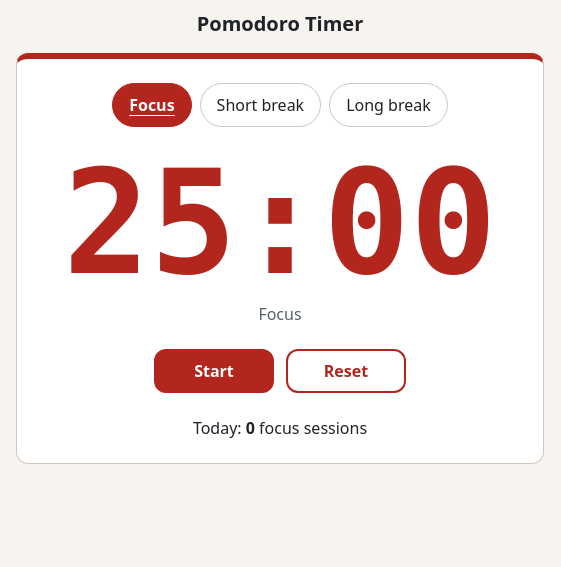
S4 Sound and in-page message when a session ends › when a break reaches 00:00, a sound plays and 'Break over. Ready to focus?' appears
Click the button "Short break". click: click(260, 105)
box: [200,83,321,127]
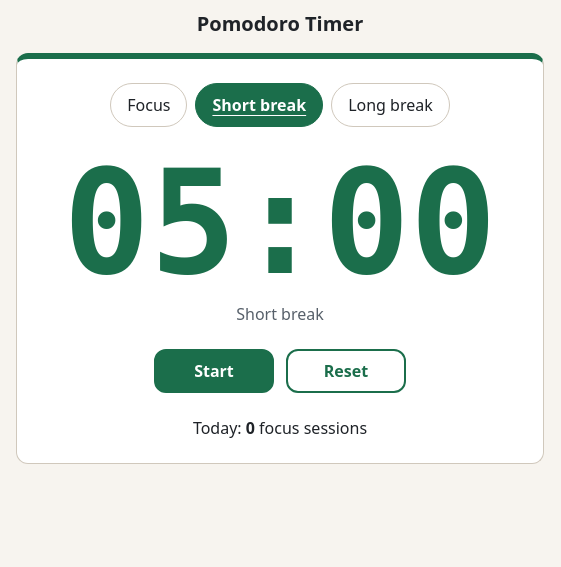
Click the button "Start". click: click(214, 371)
box: [154,349,274,393]
Wait 300000 ms
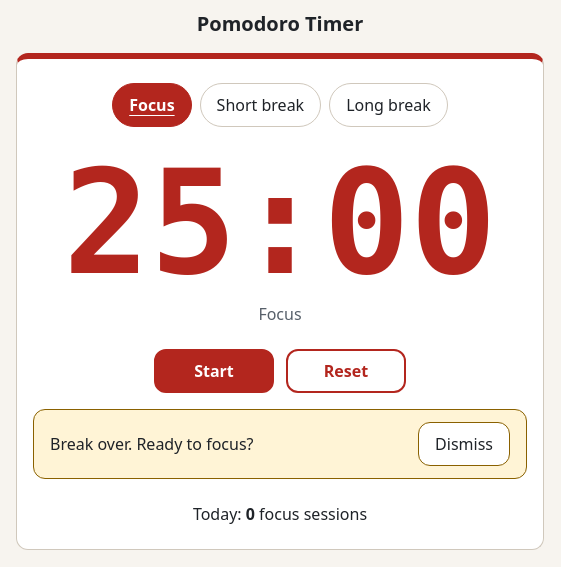
Now the message shows "Break over. Ready to focus?", box [50,433,254,455]
